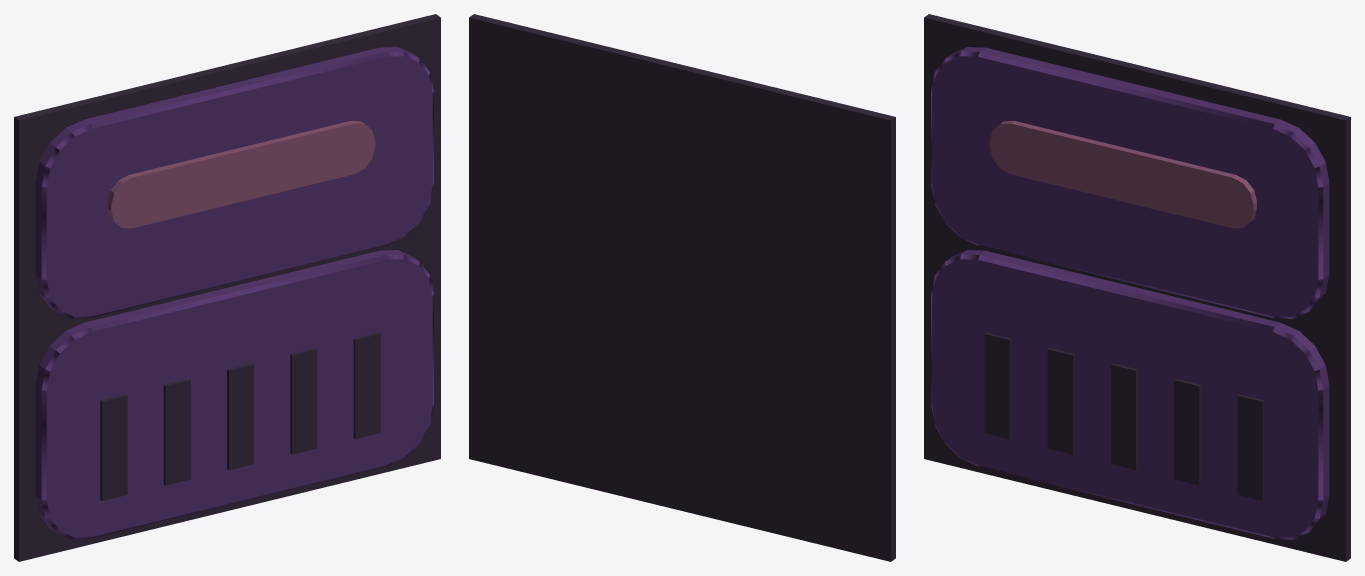
The model's file is SM_SB_Kit_AlienPanelB.fbx.
3 renders of one model, left to right at view 1: azimuth 30°, elevation 25°; view 2: azimuth 150°, elevation 25°; view 3: azimuth 330°, elevation 25°, orthographic.
Parts seen in each view (by area): view 1: SM_SB_Kit_AlienPanelB; view 2: SM_SB_Kit_AlienPanelB; view 3: SM_SB_Kit_AlienPanelB.
Boxes of the visible parts, x1=… form: SM_SB_Kit_AlienPanelB: x1=14, y1=14, x2=440, y2=561; SM_SB_Kit_AlienPanelB: x1=469, y1=14, x2=895, y2=561; SM_SB_Kit_AlienPanelB: x1=924, y1=14, x2=1350, y2=561.
Bounding box in the file's own units: 400 × 30 × 400.
